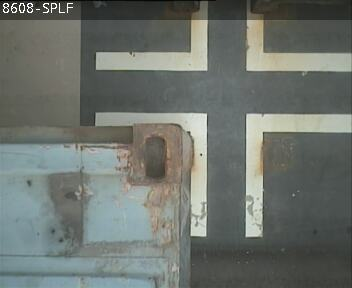groundmarker_1: (95, 111, 348, 236), (95, 1, 351, 70)
